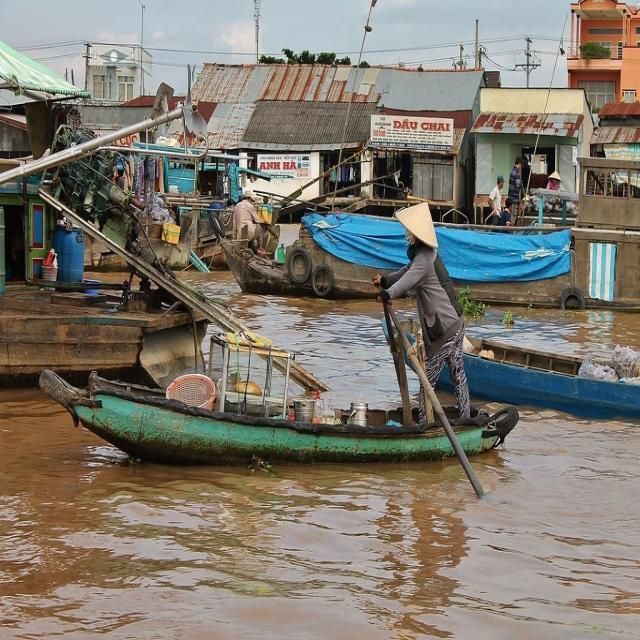Hyacinth: (451, 292, 499, 324)
boat: (29, 356, 523, 468), (218, 202, 578, 308)
